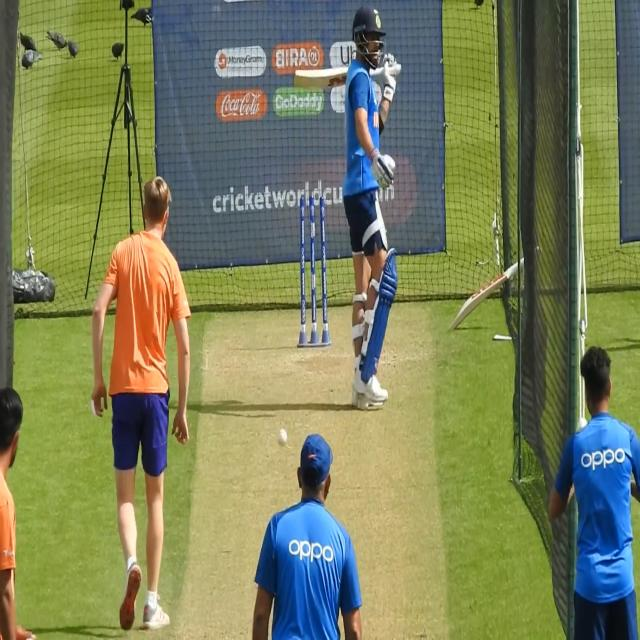ball: (277, 426, 288, 449)
stump: (300, 195, 330, 348)
